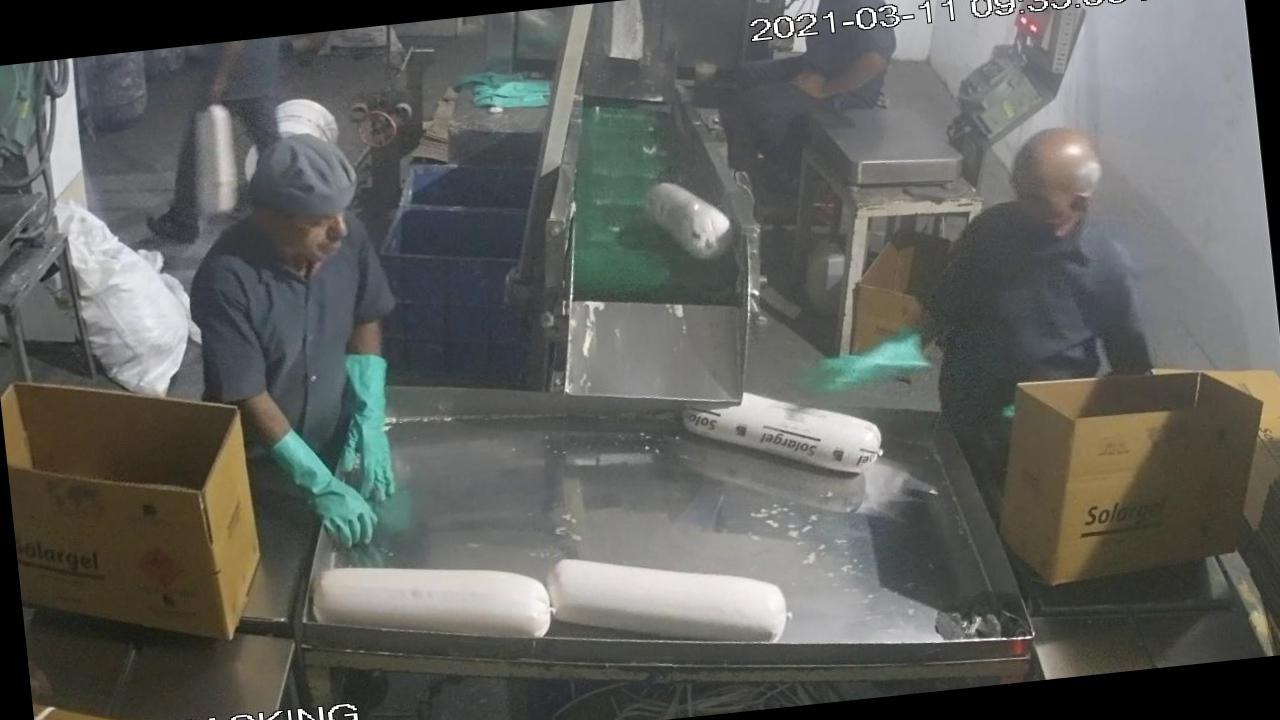Gloves: (324, 332, 432, 512), (786, 316, 953, 415), (268, 420, 384, 554)
No-gloves: (784, 36, 906, 125)
